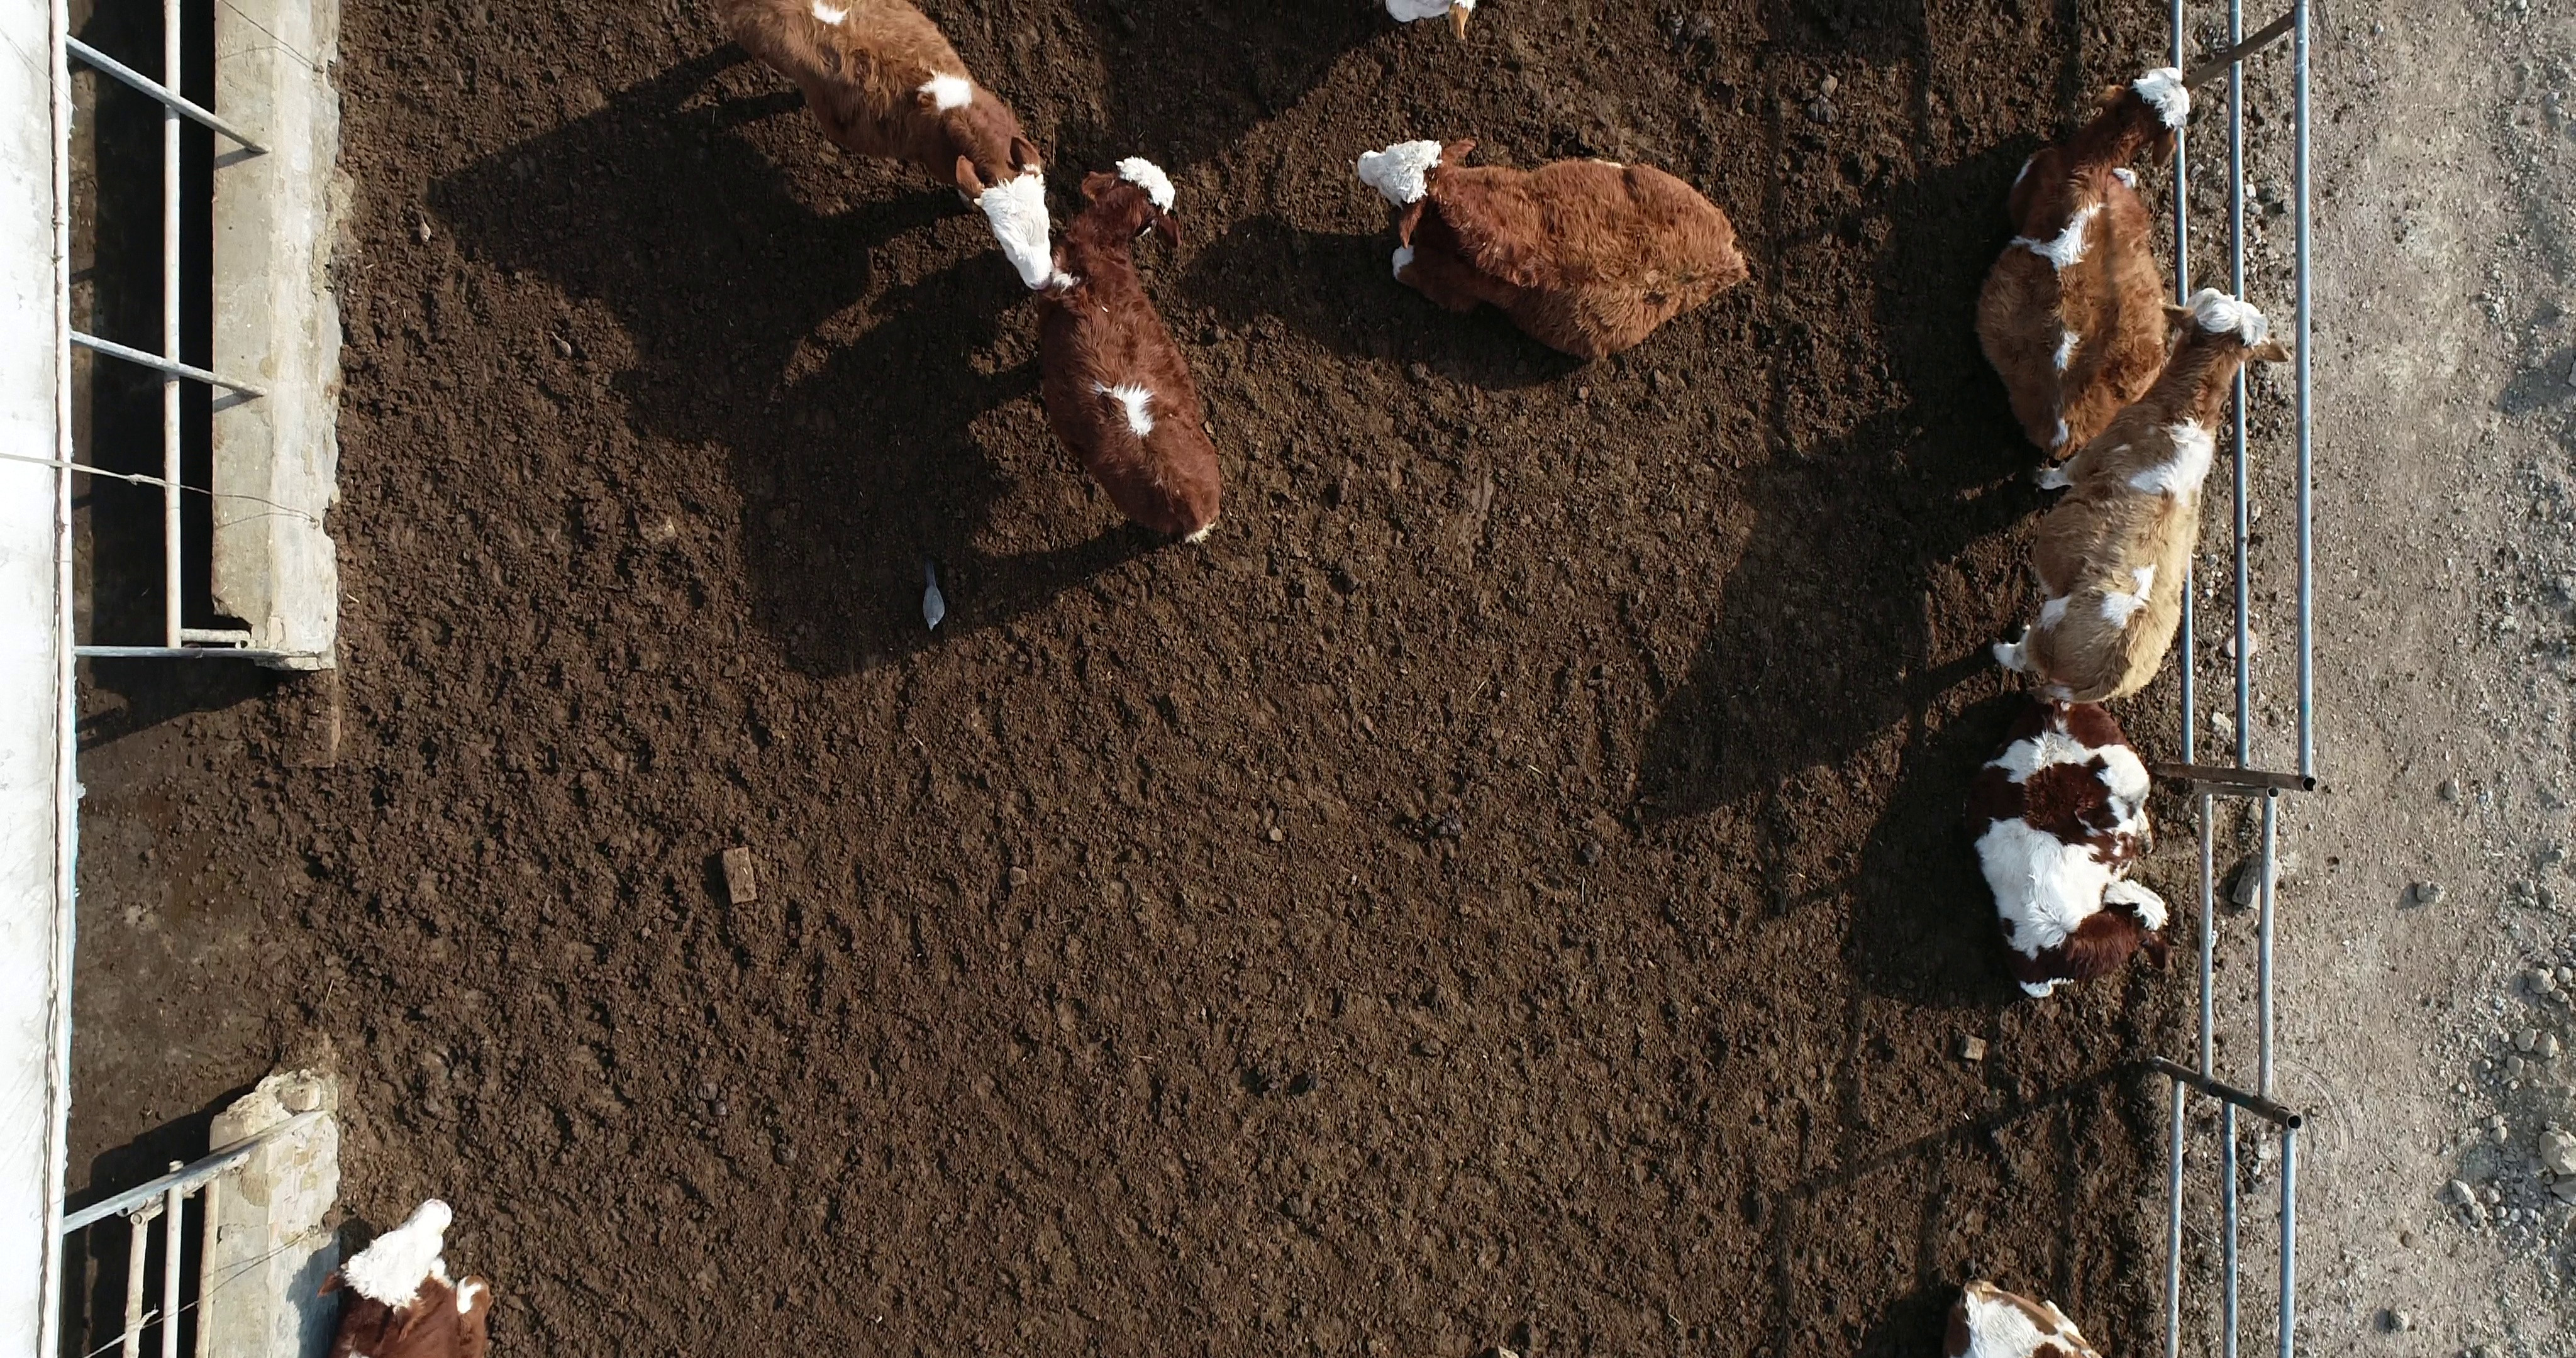cattle: (1988, 285, 2295, 719), (1343, 128, 1751, 368), (1966, 61, 2196, 467), (1032, 152, 1230, 549)
